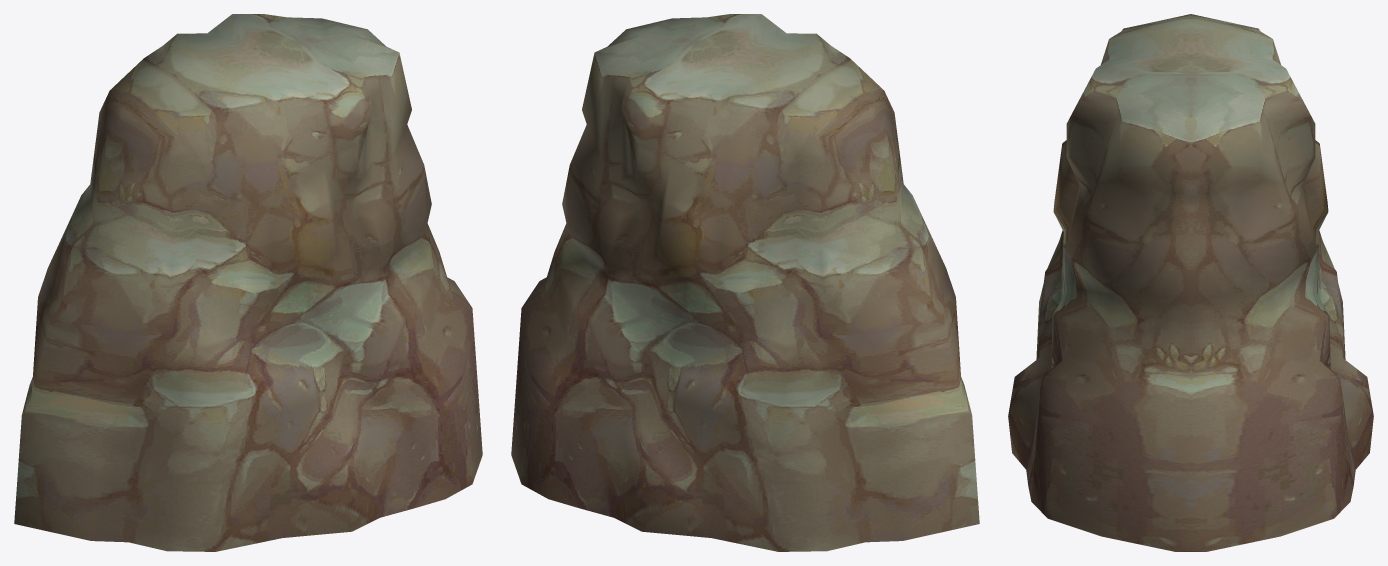
File: Map_08_stone01.FBX
The picture shows the model from 3 angles, left to right: view 1: azimuth 30°, elevation 25°; view 2: azimuth 150°, elevation 25°; view 3: azimuth 270°, elevation 25°; orthographic projection. The views are drawn at different scales.
Visible parts, largest first — view 1: Map_08_stone01; view 2: Map_08_stone01; view 3: Map_08_stone01.
Part boxes in pixels (x1,y1,x2,y2): Map_08_stone01: (14, 14, 482, 551); Map_08_stone01: (511, 14, 979, 551); Map_08_stone01: (1008, 14, 1373, 551).
Size of the model in its own units: 608 by 438 by 529.
